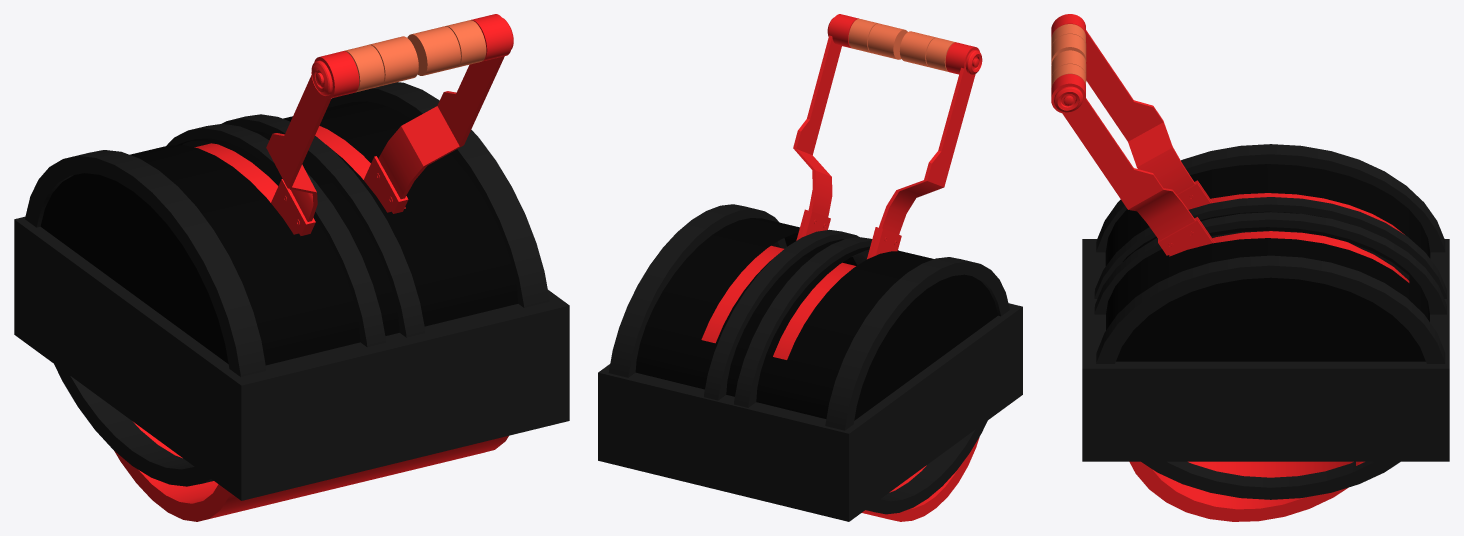
Rendered from throttle.glb.
3 views of the same model, side by side, from view 1: azimuth 30°, elevation 25°; view 2: azimuth 150°, elevation 25°; view 3: azimuth 270°, elevation 25° (orthographic). The views are drawn at different scales.
Parts seen in each view (by area): view 1: Object_7, Object_2, Object_4; view 2: Object_7, Object_2, Object_4; view 3: Object_7, Object_2, Object_4.
Part boxes in pixels (x1,y1,x2,y2): Object_7: [14, 82, 569, 500]; Object_2: [40, 101, 518, 365]; Object_4: [114, 14, 513, 521]; Object_7: [598, 204, 1022, 521]; Object_2: [635, 218, 997, 420]; Object_4: [701, 14, 982, 521]; Object_7: [1082, 144, 1449, 499]; Object_2: [1105, 164, 1430, 361]; Object_4: [1051, 14, 1409, 521].
Size of the model in its own units: 0.3301 by 0.4953 by 0.4292.
